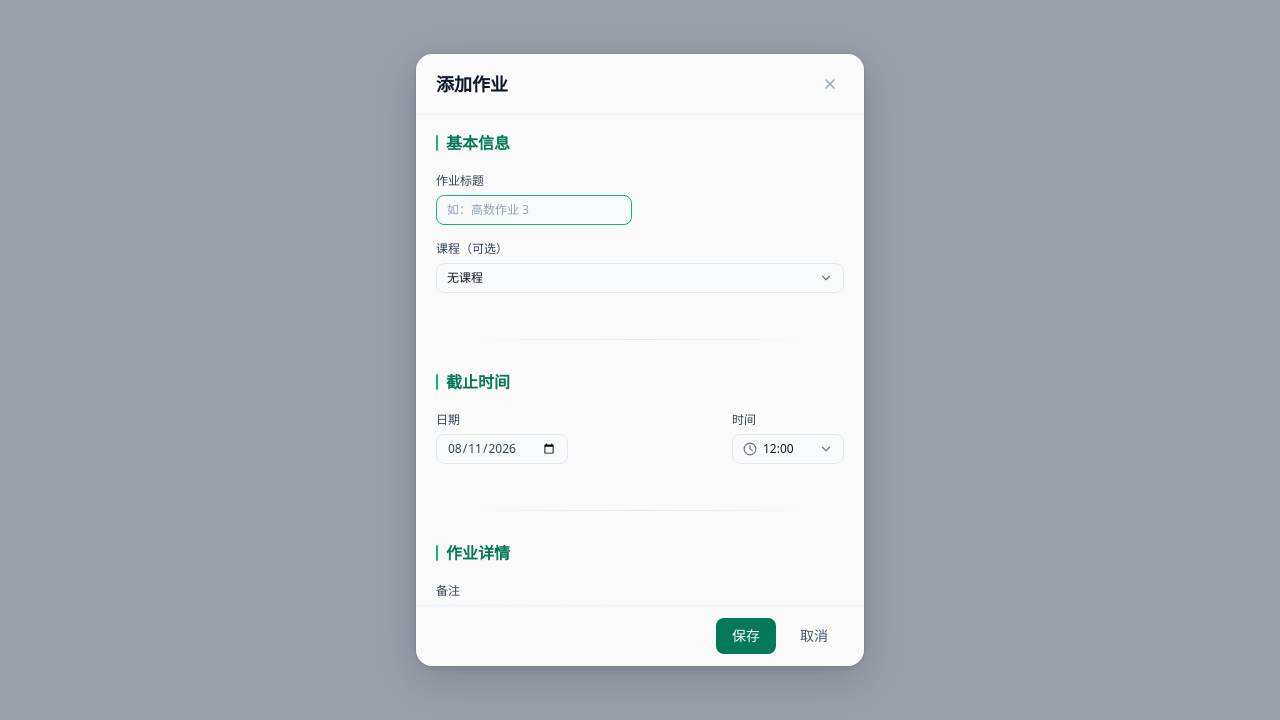
HomeworkFormDialog › 空标题提交显示错误
Click the button "保存" at (746, 636), box [716,618,776,654]
(page scrolled)
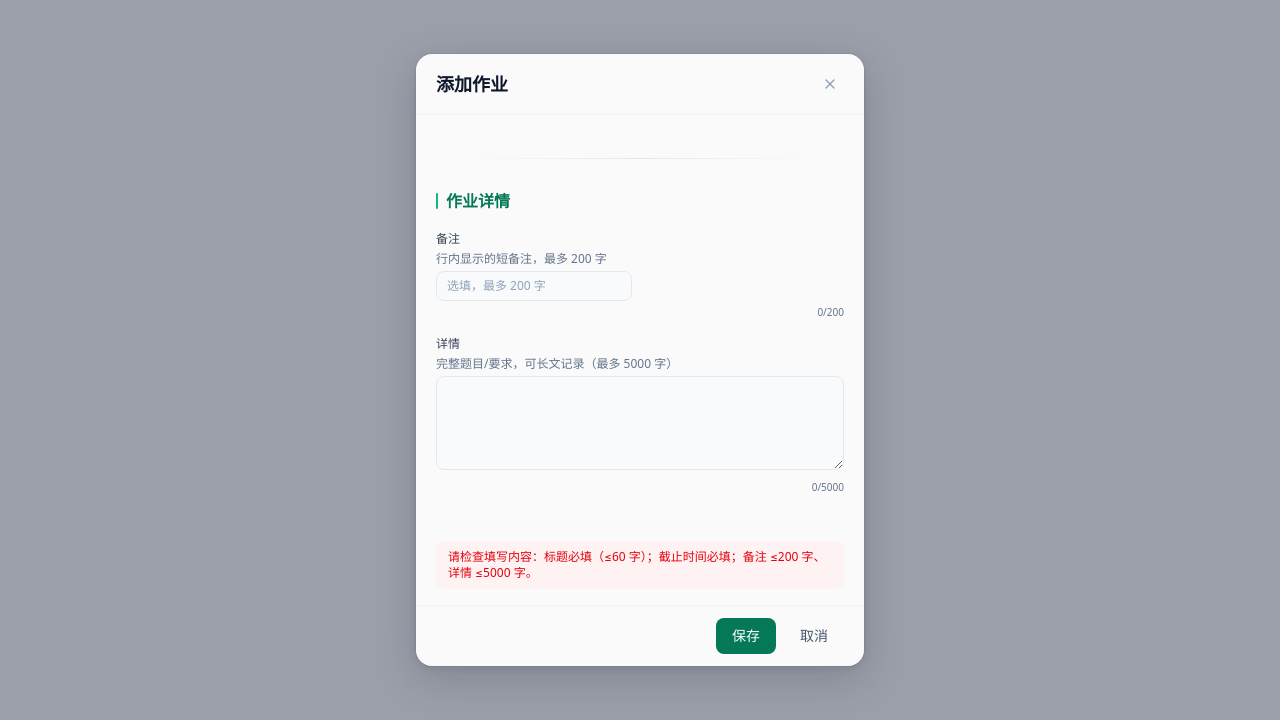
expect the text "请检查填写内容：标题必填（≤60 字）；截止时间必填；备注 ≤200 字、详情 ≤5000 字。" is shown: met, box [436,541,844,589]
